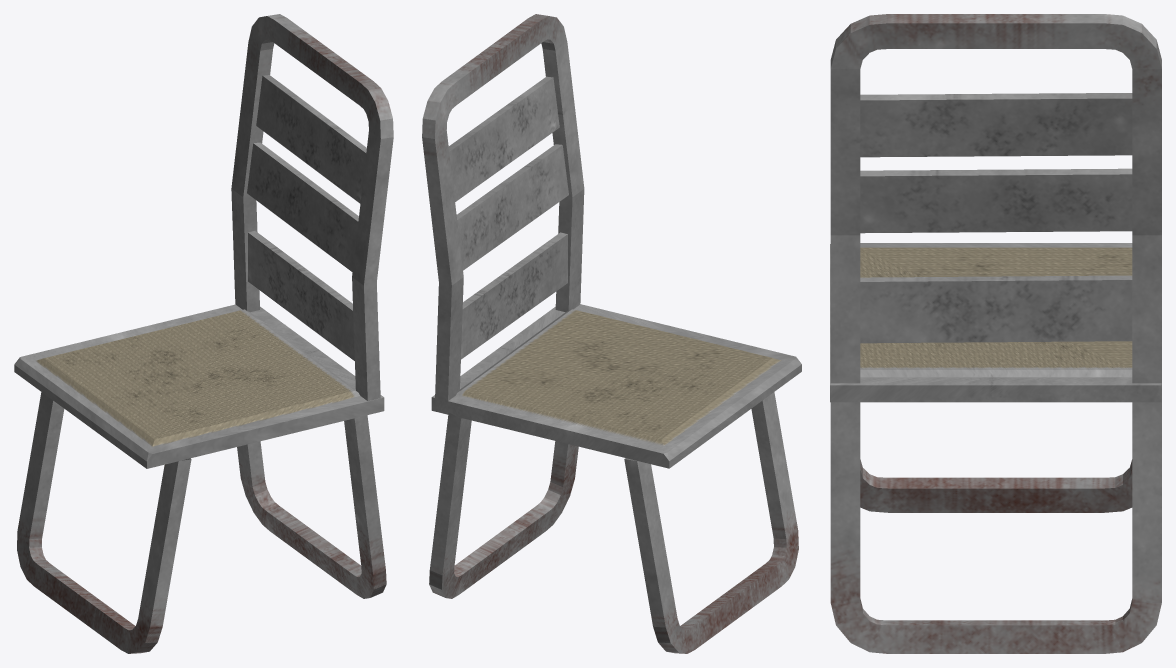
Rendered from chair.fbx.
3 renders of one model, left to right at view 1: azimuth 30°, elevation 25°; view 2: azimuth 150°, elevation 25°; view 3: azimuth 270°, elevation 25°, orthographic. The views are drawn at different scales.
Visible parts, largest first — view 1: chair; view 2: chair; view 3: chair.
Part boxes in pixels (<box>): chair: <box>14,14,393,653</box>; chair: <box>422,14,801,653</box>; chair: <box>830,14,1161,653</box>.
Size of the model in its own units: 2.31 by 4.45 by 2.1.
Materials: 1 (1 with a texture image).
